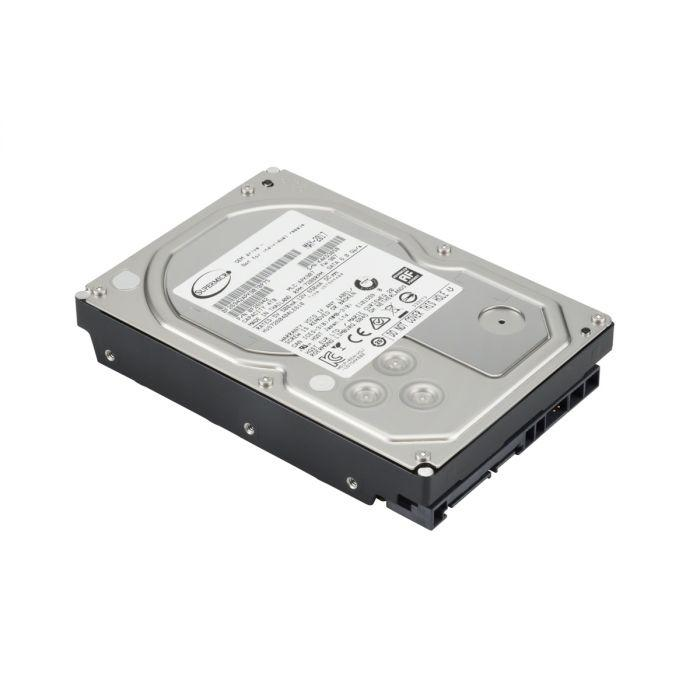internal HDD: (74, 167, 615, 532)
